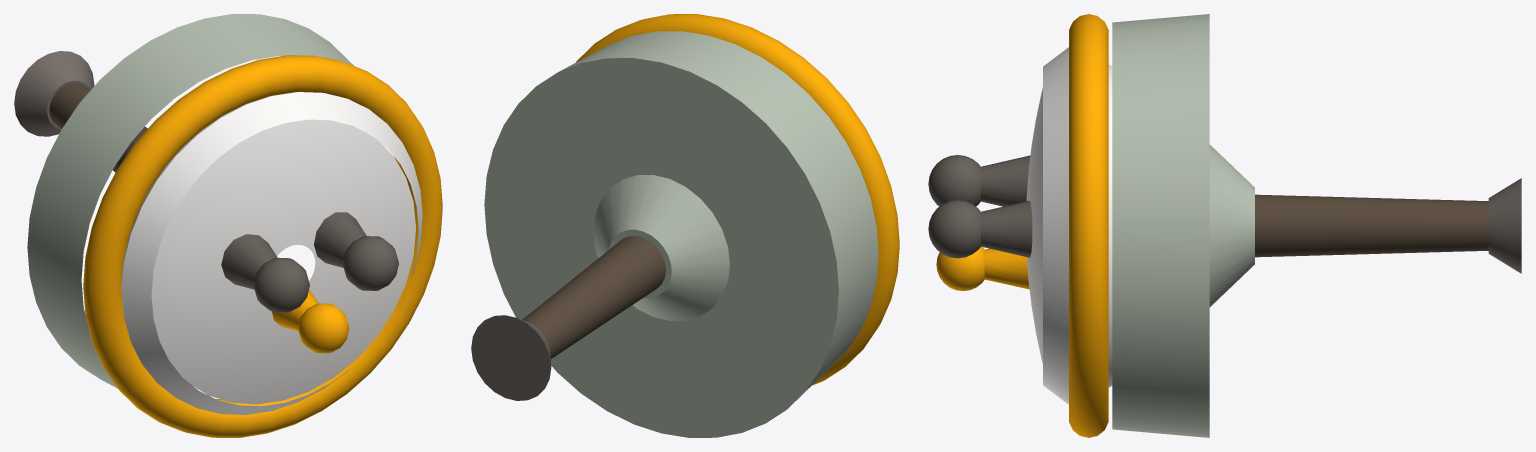
Rendered from pin-meet.glb.
The picture shows the model from 3 angles, left to right: view 1: azimuth 30°, elevation 25°; view 2: azimuth 150°, elevation 25°; view 3: azimuth 270°, elevation 25°; orthographic projection. The views are drawn at different scales.
Visible parts, largest first — view 1: plate_dome, ring, head, plate_bevel, foot, a_head, b_head, c_head, a_body, b_body, stem, c_body (+1 smaller); view 2: head, collar, ring, stem, foot; view 3: head, ring, stem, plate_bevel, collar, plate_dome, foot, b_head, b_body, a_head, a_body, plate_wall (+2 smaller).
Part boxes in pixels (bbox=[...]): plate_dome: bbox=[151, 119, 415, 404]; ring: bbox=[83, 55, 442, 437]; head: bbox=[27, 14, 353, 388]; plate_bevel: bbox=[121, 92, 422, 414]; foot: bbox=[14, 51, 94, 136]; a_head: bbox=[253, 257, 309, 312]; b_head: bbox=[342, 236, 398, 290]; c_head: bbox=[298, 303, 349, 353]; a_body: bbox=[221, 234, 277, 289]; b_body: bbox=[314, 212, 366, 267]; stem: bbox=[49, 83, 147, 172]; c_body: bbox=[272, 290, 318, 330]; head: bbox=[484, 31, 878, 437]; collar: bbox=[593, 175, 729, 320]; ring: bbox=[576, 14, 899, 385]; stem: bbox=[522, 236, 665, 358]; foot: bbox=[471, 315, 551, 400]; head: bbox=[1112, 14, 1209, 437]; ring: bbox=[1069, 14, 1108, 437]; stem: bbox=[1255, 194, 1488, 257]; plate_bevel: bbox=[1043, 47, 1068, 404]; collar: bbox=[1209, 144, 1254, 307]; plate_dome: bbox=[1026, 88, 1042, 363]; foot: bbox=[1488, 178, 1521, 273]; b_head: bbox=[928, 200, 980, 258]; b_body: bbox=[981, 201, 1032, 257]; a_head: bbox=[928, 155, 980, 206]; a_body: bbox=[981, 155, 1030, 206]; plate_wall: bbox=[1108, 64, 1112, 387].
Bounding box in the file's own units: 0.796 × 0.796 × 1.11.
